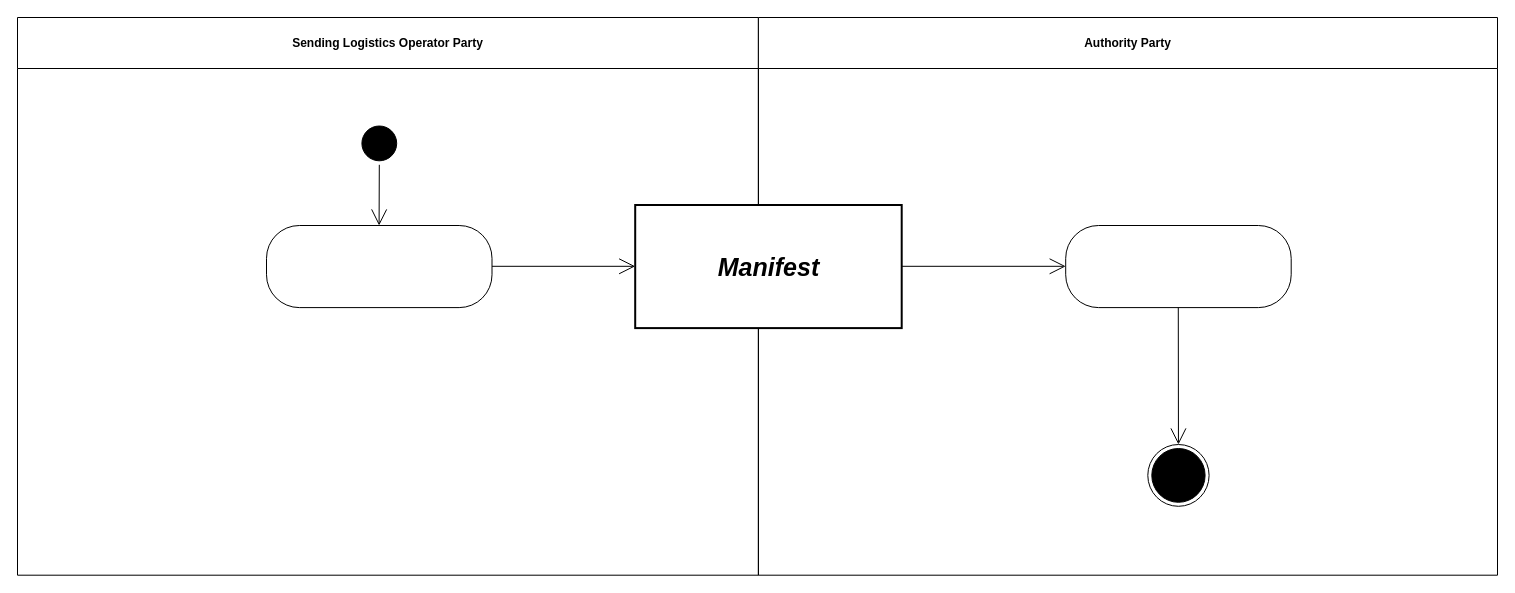
The diagram is 1515 pixels wide and 593 high, and some of its shapes have lost their labels. The box of each missing label's shape, as (x1, y1, x2, y2) in pixels:
Receive Manifest: (1065, 224, 1291, 308)
Send report: (266, 224, 492, 308)
